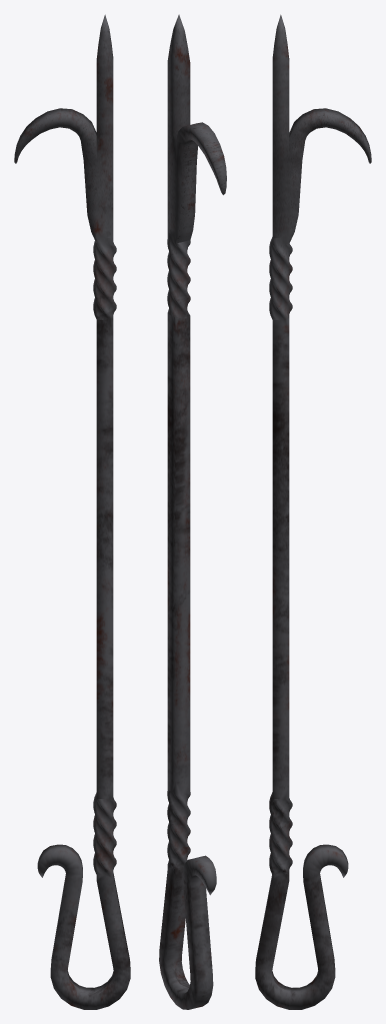
File: Fire_Poker_Textured.obj
3 views of the same model, side by side, from view 1: azimuth 90°, elevation 25°; view 2: azimuth 210°, elevation 25°; view 3: azimuth 270°, elevation 25° (orthographic).
Parts seen in each view (by area): view 1: Fire_Poker, hook; view 2: Fire_Poker, hook; view 3: Fire_Poker, hook.
Part boxes in pixels (left/top/right/bottom): Fire_Poker: left=37, top=14, right=130, bottom=1009; hook: left=14, top=108, right=96, bottom=242; Fire_Poker: left=159, top=14, right=216, bottom=1009; hook: left=176, top=122, right=226, bottom=243; Fire_Poker: left=255, top=14, right=348, bottom=1009; hook: left=289, top=108, right=371, bottom=242.
Size of the model in its own units: 0.0279 by 1.3 by 0.1386.
